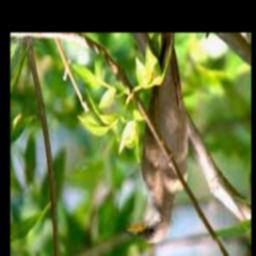Cuckoo: (123, 34, 188, 244)
